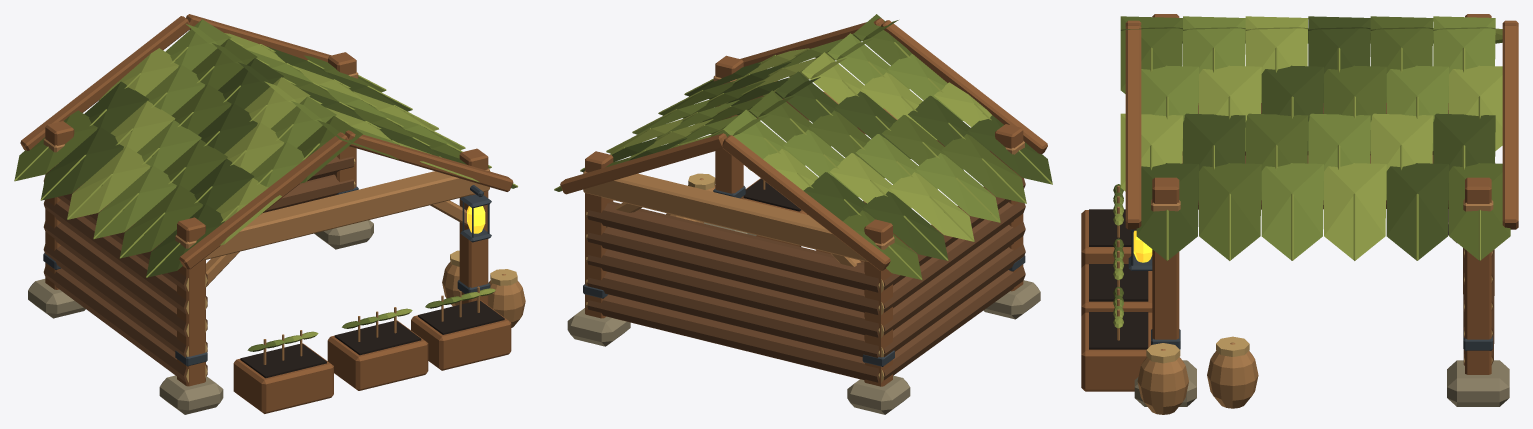
The model's file is forester.glb.
The picture shows the model from 3 angles, left to right: view 1: azimuth 30°, elevation 25°; view 2: azimuth 150°, elevation 25°; view 3: azimuth 270°, elevation 25°; orthographic projection. The views are drawn at different scales.
Parts seen in each view (by area): view 1: forester.001; view 2: forester.001; view 3: forester.001.
Boxes of the visible parts, left/top/right/bottom form: forester.001: left=14, top=14, right=525, bottom=414; forester.001: left=554, top=14, right=1052, bottom=414; forester.001: left=1081, top=14, right=1518, bottom=414.
Bounding box in the file's own units: 5.18 × 3.26 × 4.41.
